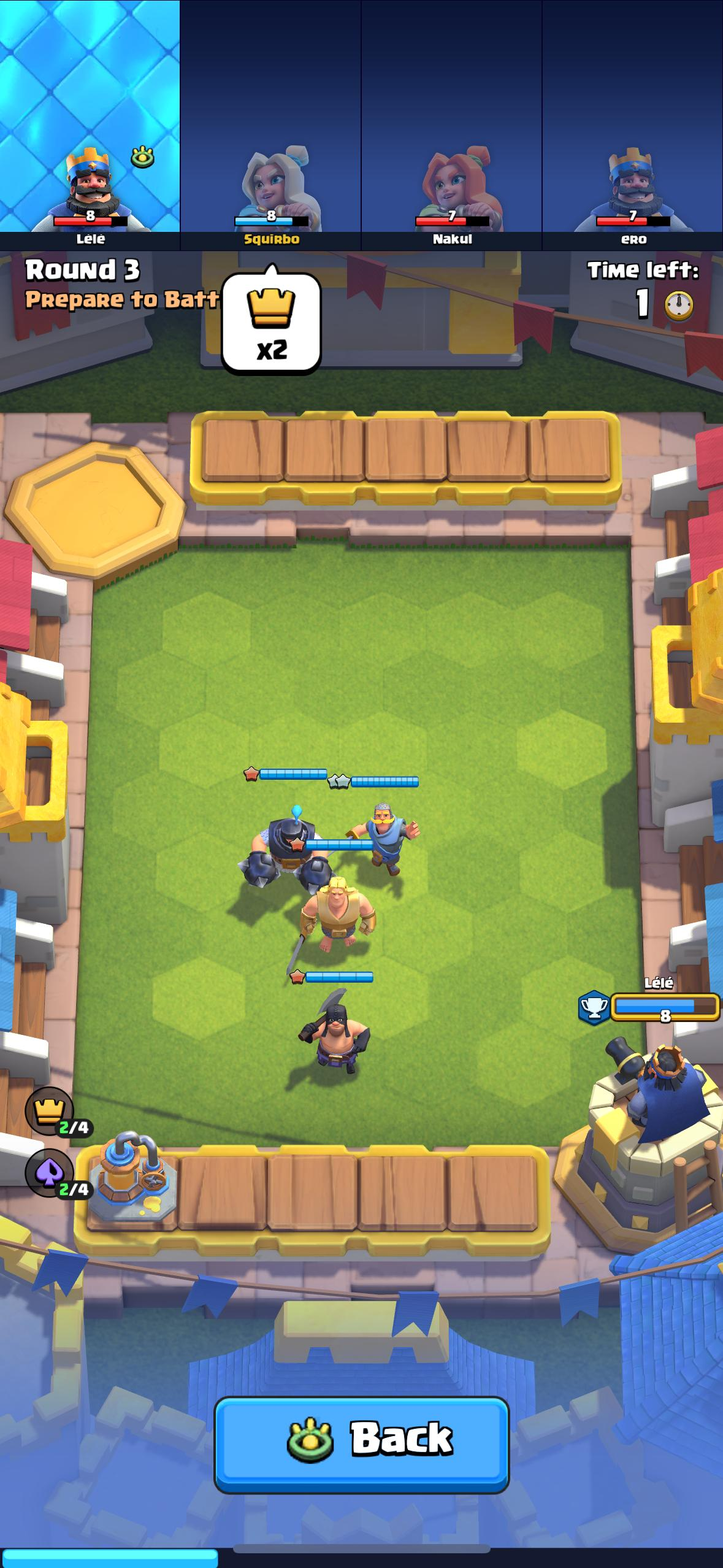collector: (88, 1142, 171, 1219)
executioner: (290, 980, 376, 1080)
golden: (304, 867, 374, 951)
knight: (337, 791, 418, 885)
mega: (246, 806, 332, 898)
